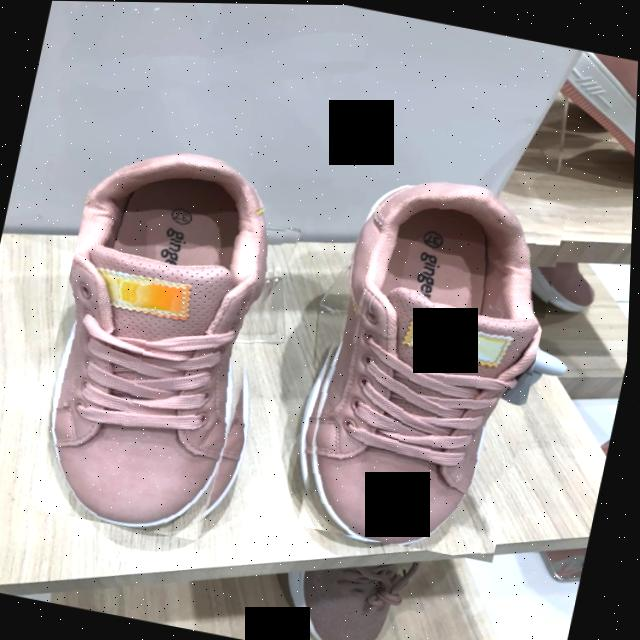shoe: (313, 182, 544, 542), (60, 154, 272, 531)
